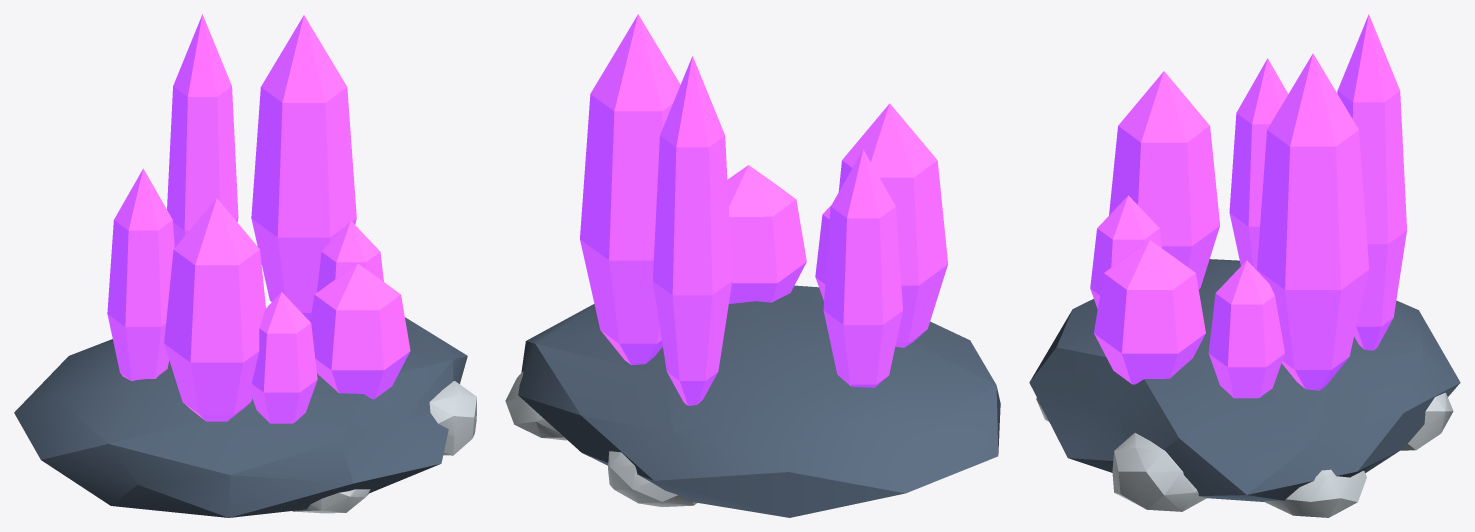
Rendered from moonsteel-convergence-amethyst-outcrop-6e7d01c7__18189.glb.
The picture shows the model from 3 angles, left to right: view 1: azimuth 30°, elevation 25°; view 2: azimuth 150°, elevation 25°; view 3: azimuth 270°, elevation 25°; orthographic projection. The views are drawn at different scales.
Visible parts, largest first — view 1: amethyst-outcrop; view 2: amethyst-outcrop; view 3: amethyst-outcrop.
Boxes of the visible parts, left/top/right/bottom form: amethyst-outcrop: left=14, top=14, right=476, bottom=517; amethyst-outcrop: left=505, top=14, right=1000, bottom=517; amethyst-outcrop: left=1029, top=14, right=1460, bottom=517.
Size of the model in its own units: 2.06 by 1.79 by 1.69.
